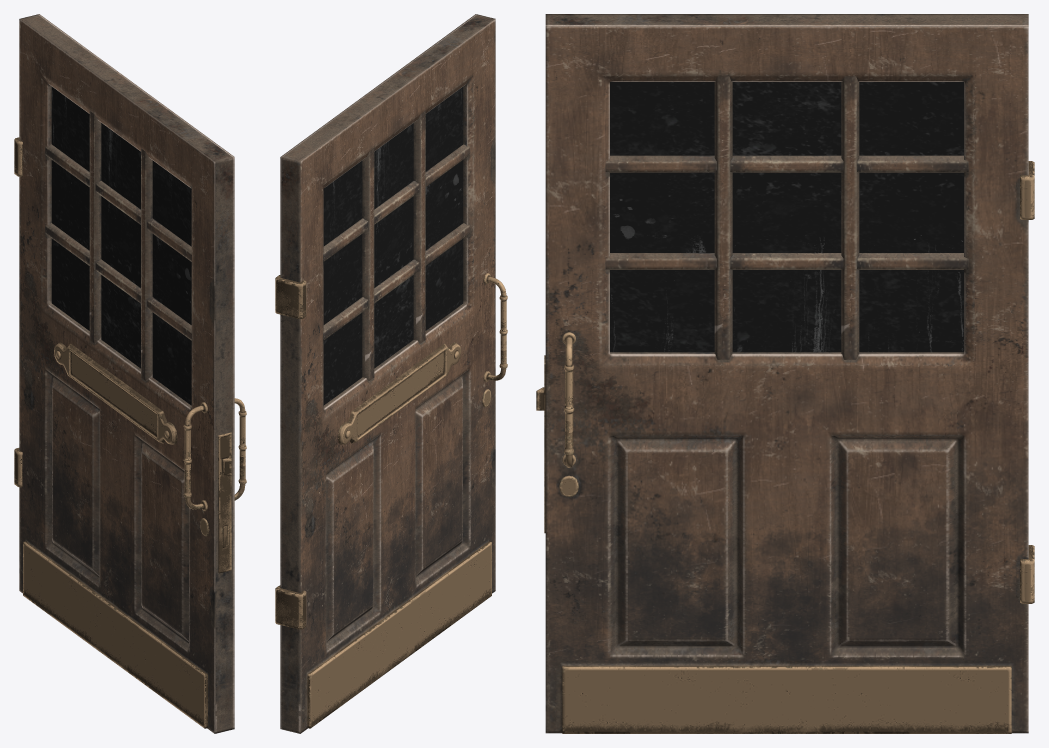
File: SM_Door02_2_LOD0.glb
3 renders of one model, left to right at view 1: azimuth 30°, elevation 25°; view 2: azimuth 150°, elevation 25°; view 3: azimuth 270°, elevation 25°, orthographic. The views are drawn at different scales.
Parts seen in each view (by area): view 1: SM_Door02_2_LOD0; view 2: SM_Door02_2_LOD0; view 3: SM_Door02_2_LOD0.
Part boxes in pixels (x1,y1,x2,y2): SM_Door02_2_LOD0: (14,14,246,733); SM_Door02_2_LOD0: (275,14,507,733); SM_Door02_2_LOD0: (536,14,1034,733).
Size of the model in its own units: 0.2521 by 2.22 by 1.42.
Materials: 2 (2 with a texture image).
